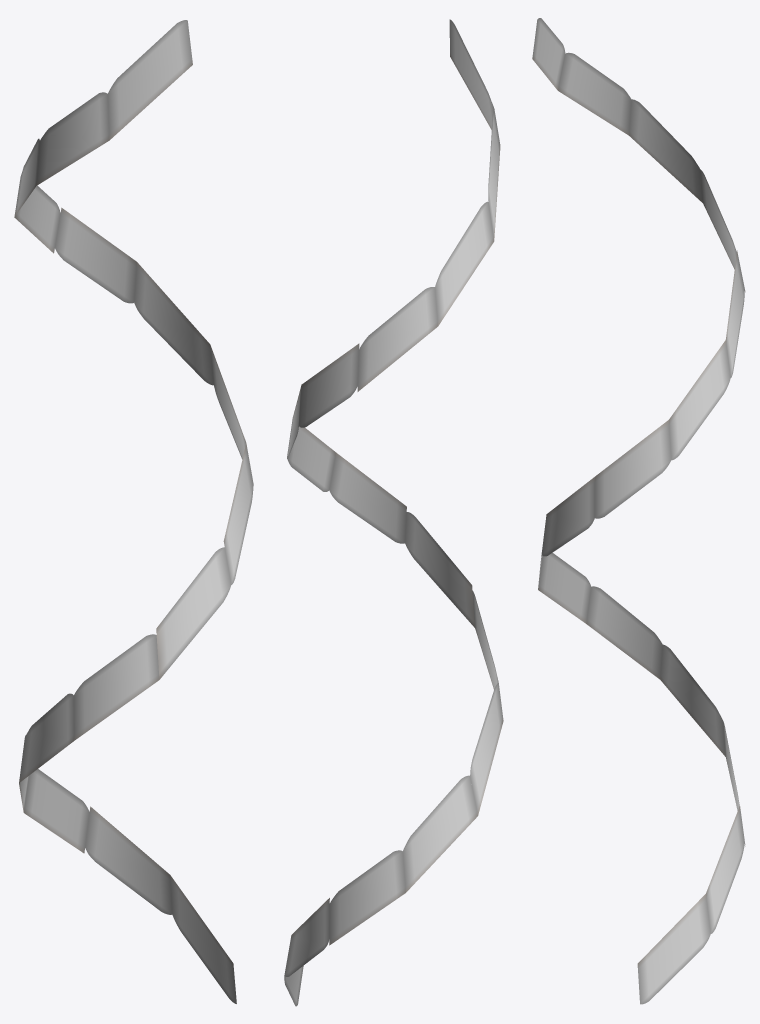
3 renders of one model, left to right at view 1: azimuth 30°, elevation 25°; view 2: azimuth 150°, elevation 25°; view 3: azimuth 270°, elevation 25°, orthographic. The views are drawn at different scales.
Parts seen in each view (by area): view 1: T1L1M006_12; view 2: T1L1M006_12; view 3: T1L1M006_12.
Part boxes in pixels (x1,y1,x2,y2): T1L1M006_12: (14,20,253,1003); T1L1M006_12: (284,19,503,1006); T1L1M006_12: (532,18,745,1004).
Size of the model in its own units: 0.0732 by 0.3594 by 0.0732.
